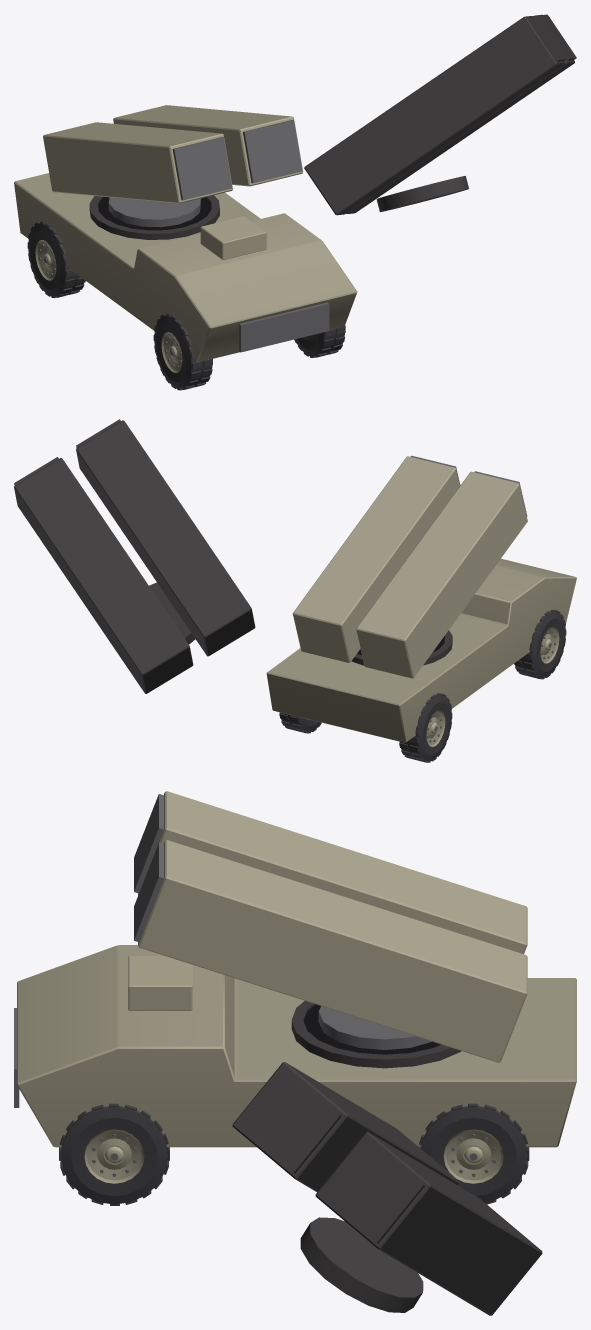
File: coastalASM__nmesis.glb
The picture shows the model from 3 angles, top to bottom: view 1: azimuth 30°, elevation 25°; view 2: azimuth 150°, elevation 25°; view 3: azimuth 270°, elevation 25°; orthographic projection. The views are drawn at different scales.
Parts seen in each view (by area): view 1: Hull_Mesh, Wreck, Gun_Mesh, Wheel_L1_Mesh, Wheel_L0_Mesh, Turret_Mesh, Wheel_R1_Mesh; view 2: Wreck, Gun_Mesh, Hull_Mesh, Wheel_L0_Mesh, Wheel_L1_Mesh, Wheel_R0_Mesh; view 3: Gun_Mesh, Hull_Mesh, Wreck, Wheel_R1_Mesh, Wheel_R0_Mesh, Turret_Mesh.
Part boxes in pixels (left/top/right/bottom): Hull_Mesh: left=14, top=173, right=357, bottom=362; Wreck: left=57, top=14, right=576, bottom=354; Gun_Mesh: left=43, top=105, right=302, bottom=203; Wheel_L1_Mesh: left=153, top=313, right=212, bottom=390; Wheel_L0_Mesh: left=27, top=221, right=85, bottom=298; Turret_Mesh: left=108, top=197, right=200, bottom=227; Wheel_R1_Mesh: left=294, top=325, right=345, bottom=357; Wreck: left=14, top=419, right=541, bottom=731; Gun_Mesh: left=292, top=455, right=527, bottom=678; Hull_Mesh: left=266, top=558, right=576, bottom=742; Wheel_L0_Mesh: left=399, top=693, right=452, bottom=762; Wheel_L1_Mesh: left=514, top=609, right=566, bottom=679; Wheel_R0_Mesh: left=279, top=712, right=321, bottom=733; Gun_Mesh: left=134, top=791, right=527, bottom=1062; Hull_Mesh: left=14, top=945, right=576, bottom=1147; Wreck: left=68, top=1001, right=542, bottom=1315; Wheel_R1_Mesh: left=59, top=1103, right=169, bottom=1205; Wheel_R0_Mesh: left=419, top=1103, right=529, bottom=1204; Turret_Mesh: left=318, top=1006, right=431, bottom=1049.
Size of what is drawn, in the model's own units: 7.66 by 3.34 by 5.27.
